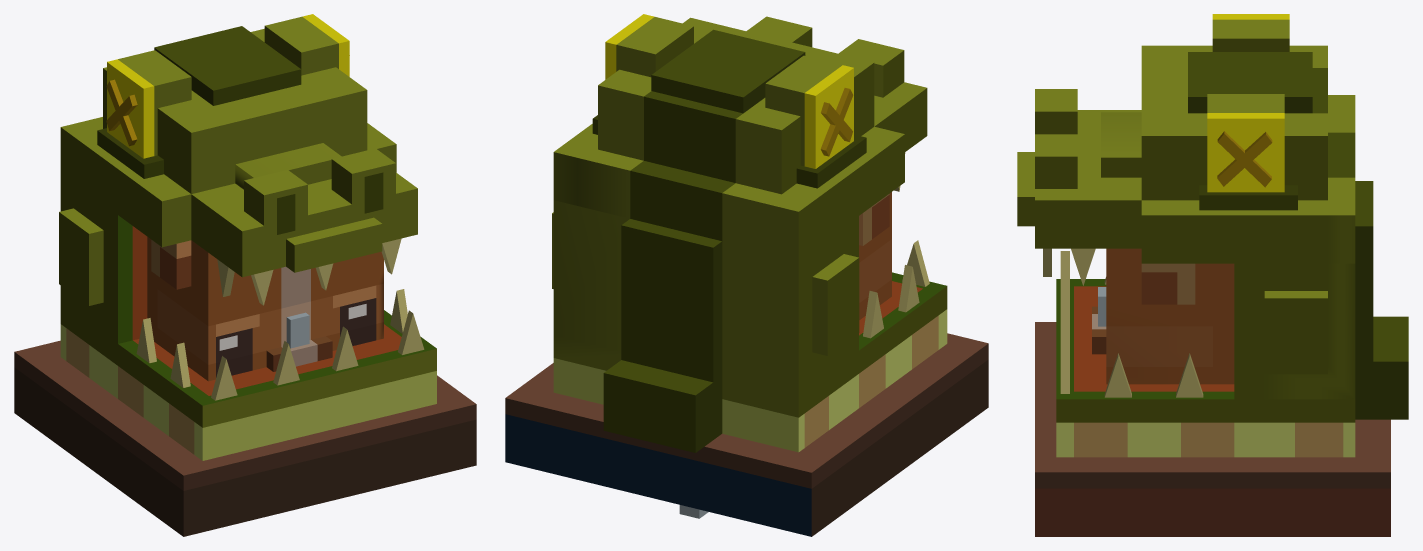
The model's file is Tower_Wombat_L5.fbx.
3 views of the same model, side by side, from view 1: azimuth 30°, elevation 25°; view 2: azimuth 150°, elevation 25°; view 3: azimuth 270°, elevation 25° (orthographic). The views are drawn at different scales.
Parts seen in each view (by area): view 1: CrocHead, Base, Body, Weapon; view 2: CrocHead, Base, Body; view 3: CrocHead, Base, Body.
Boxes of the visible parts, left/top/right/bottom form: CrocHead: left=59, top=14, right=436, bottom=460; Base: left=14, top=340, right=476, bottom=536; Body: left=147, top=237, right=383, bottom=381; Weapon: left=286, top=312, right=309, bottom=348; CrocHead: left=552, top=14, right=947, bottom=452; Base: left=505, top=333, right=988, bottom=536; Body: left=859, top=192, right=891, bottom=319; CrocHead: left=1017, top=14, right=1408, bottom=457; Base: left=1035, top=322, right=1390, bottom=536; Body: left=1092, top=248, right=1234, bottom=384.
Size of the model in its own units: 100 by 135 by 110.
